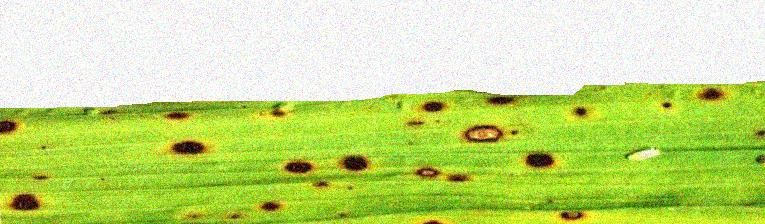brown_spot: (6, 88, 723, 218)
